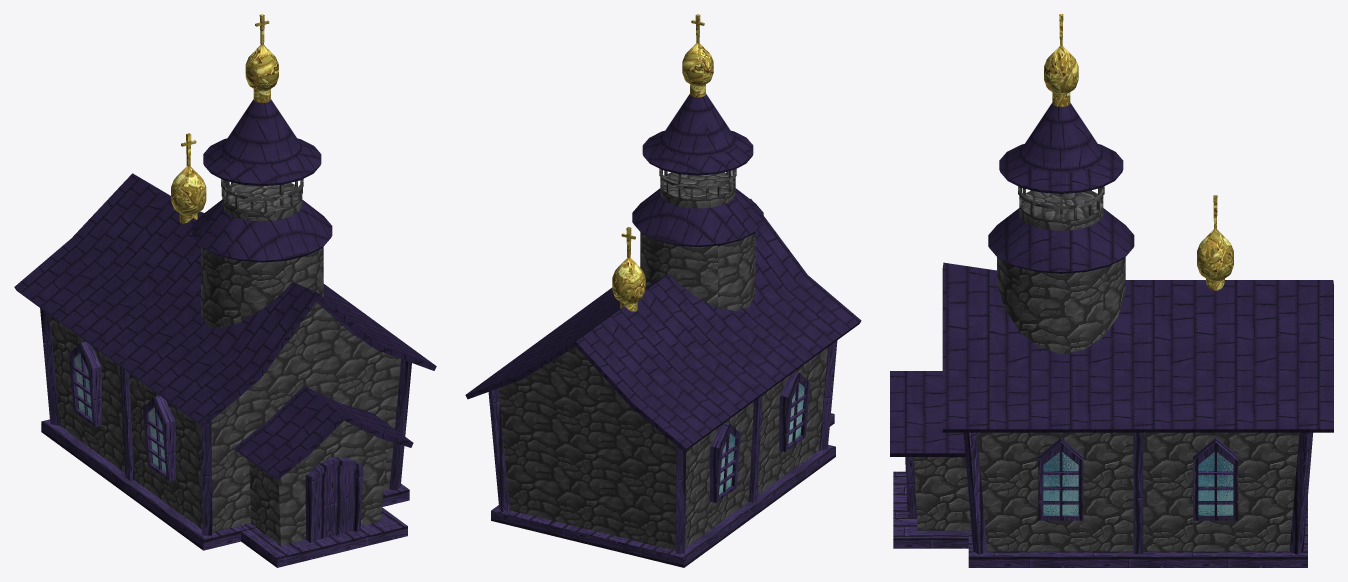
File: Chiesa.FBX
3 renders of one model, left to right at view 1: azimuth 30°, elevation 25°; view 2: azimuth 150°, elevation 25°; view 3: azimuth 270°, elevation 25°, orthographic. The views are drawn at different scales.
Visible parts, largest first — view 1: chiesa; view 2: chiesa; view 3: chiesa.
Part boxes in pixels (x1=…): chiesa: x1=14, y1=14, x2=436, y2=567; chiesa: x1=465, y1=14, x2=861, y2=567; chiesa: x1=890, y1=14, x2=1333, y2=567.
Size of the model in its own units: 0.5754 by 1.12 by 0.8965.
Materials: 5 (5 with a texture image).
